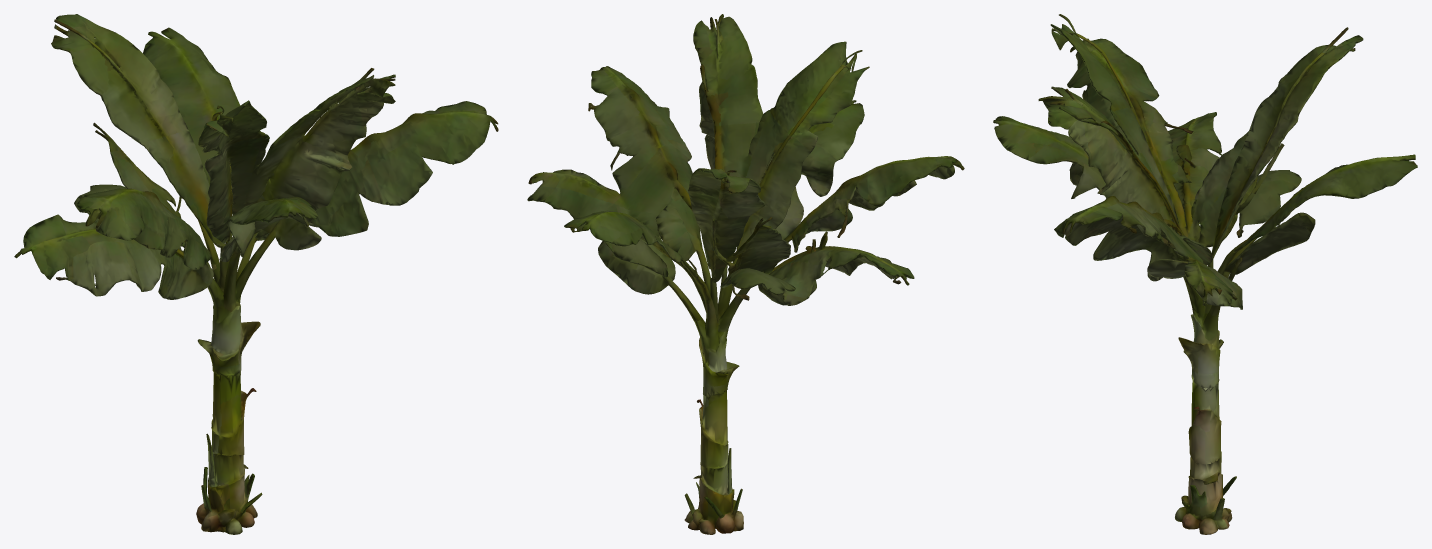
File: BaJiaoShu_2.glb
3 renders of one model, left to right at view 1: azimuth 30°, elevation 25°; view 2: azimuth 150°, elevation 25°; view 3: azimuth 270°, elevation 25°, orthographic. The views are drawn at different scales.
Parts seen in each view (by area): view 1: tripo_node_0f790094-25d8-49df-a8e1-5db8fc8267f1; view 2: tripo_node_0f790094-25d8-49df-a8e1-5db8fc8267f1; view 3: tripo_node_0f790094-25d8-49df-a8e1-5db8fc8267f1.
Boxes of the visible parts, x1,y1,x2,y2 form: tripo_node_0f790094-25d8-49df-a8e1-5db8fc8267f1: (14,14,498,534); tripo_node_0f790094-25d8-49df-a8e1-5db8fc8267f1: (527,14,964,534); tripo_node_0f790094-25d8-49df-a8e1-5db8fc8267f1: (993,14,1417,534).
Size of the model in its own units: 0.8917 by 0.9993 by 0.8209.
1 material, 1 textured.
